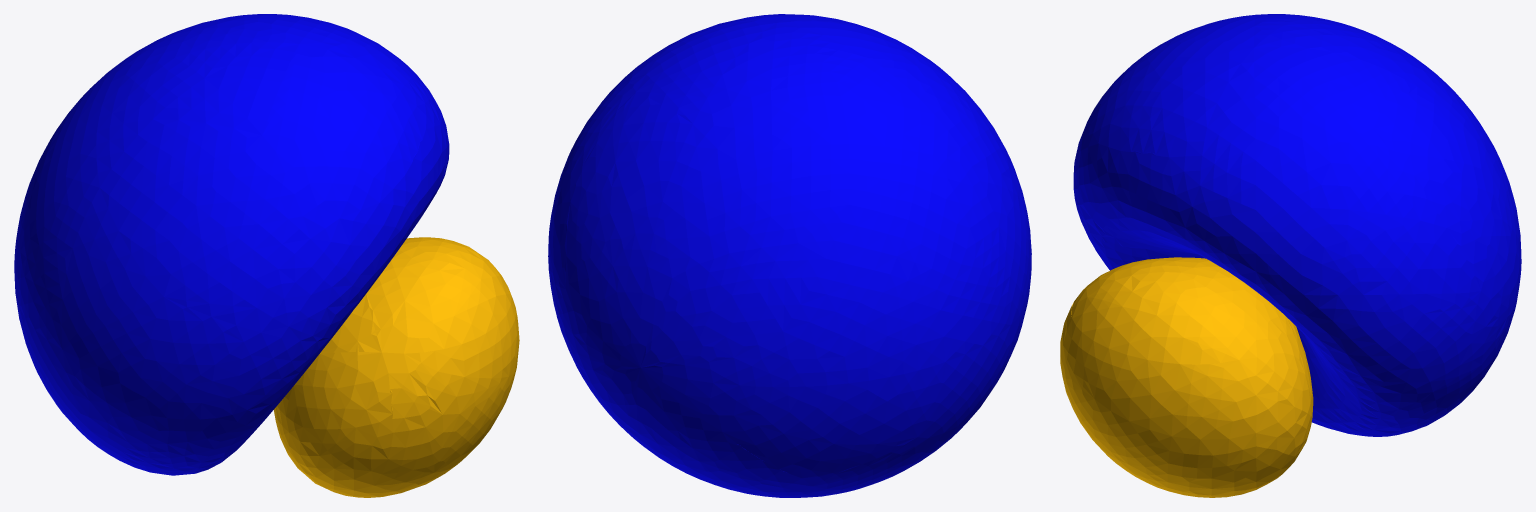
3 views of the same model, side by side, from view 1: azimuth 30°, elevation 25°; view 2: azimuth 150°, elevation 25°; view 3: azimuth 270°, elevation 25° (orthographic). The views are drawn at different scales.
Bounding box in the file's own units: 11.83 × 11.83 × 11.82.
